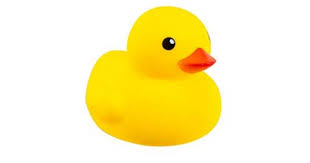duck_regular: (81, 5, 224, 147)
